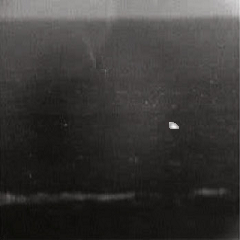Target: (167, 121, 181, 130)
